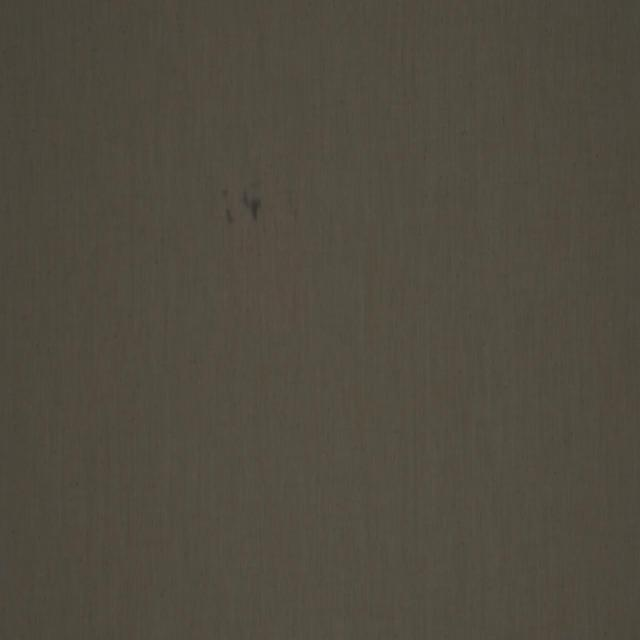dirty: (220, 181, 263, 226)
